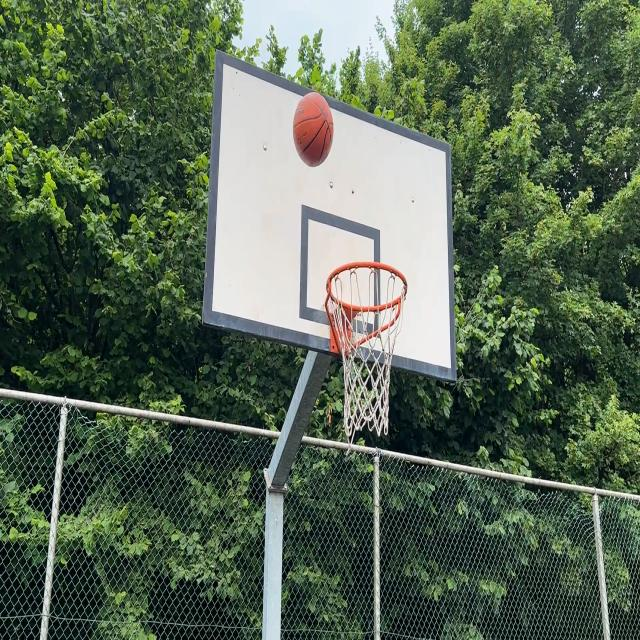Basketball: (293, 93, 334, 167)
